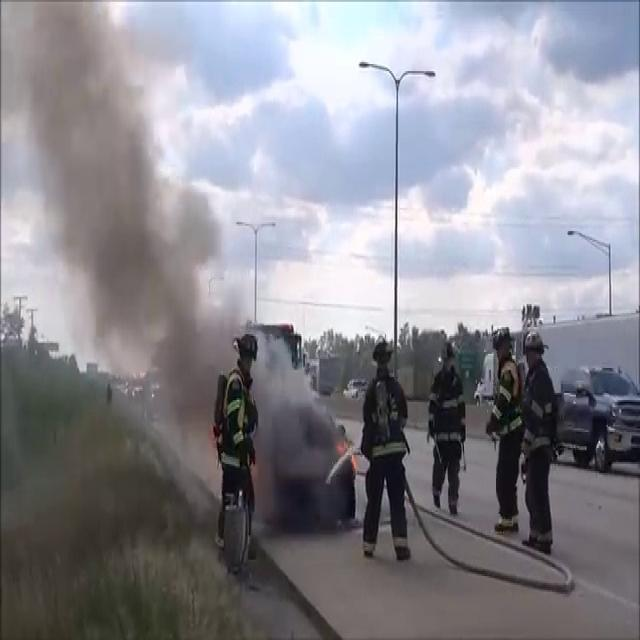Smoke: (7, 0, 237, 437), (248, 328, 350, 531)
